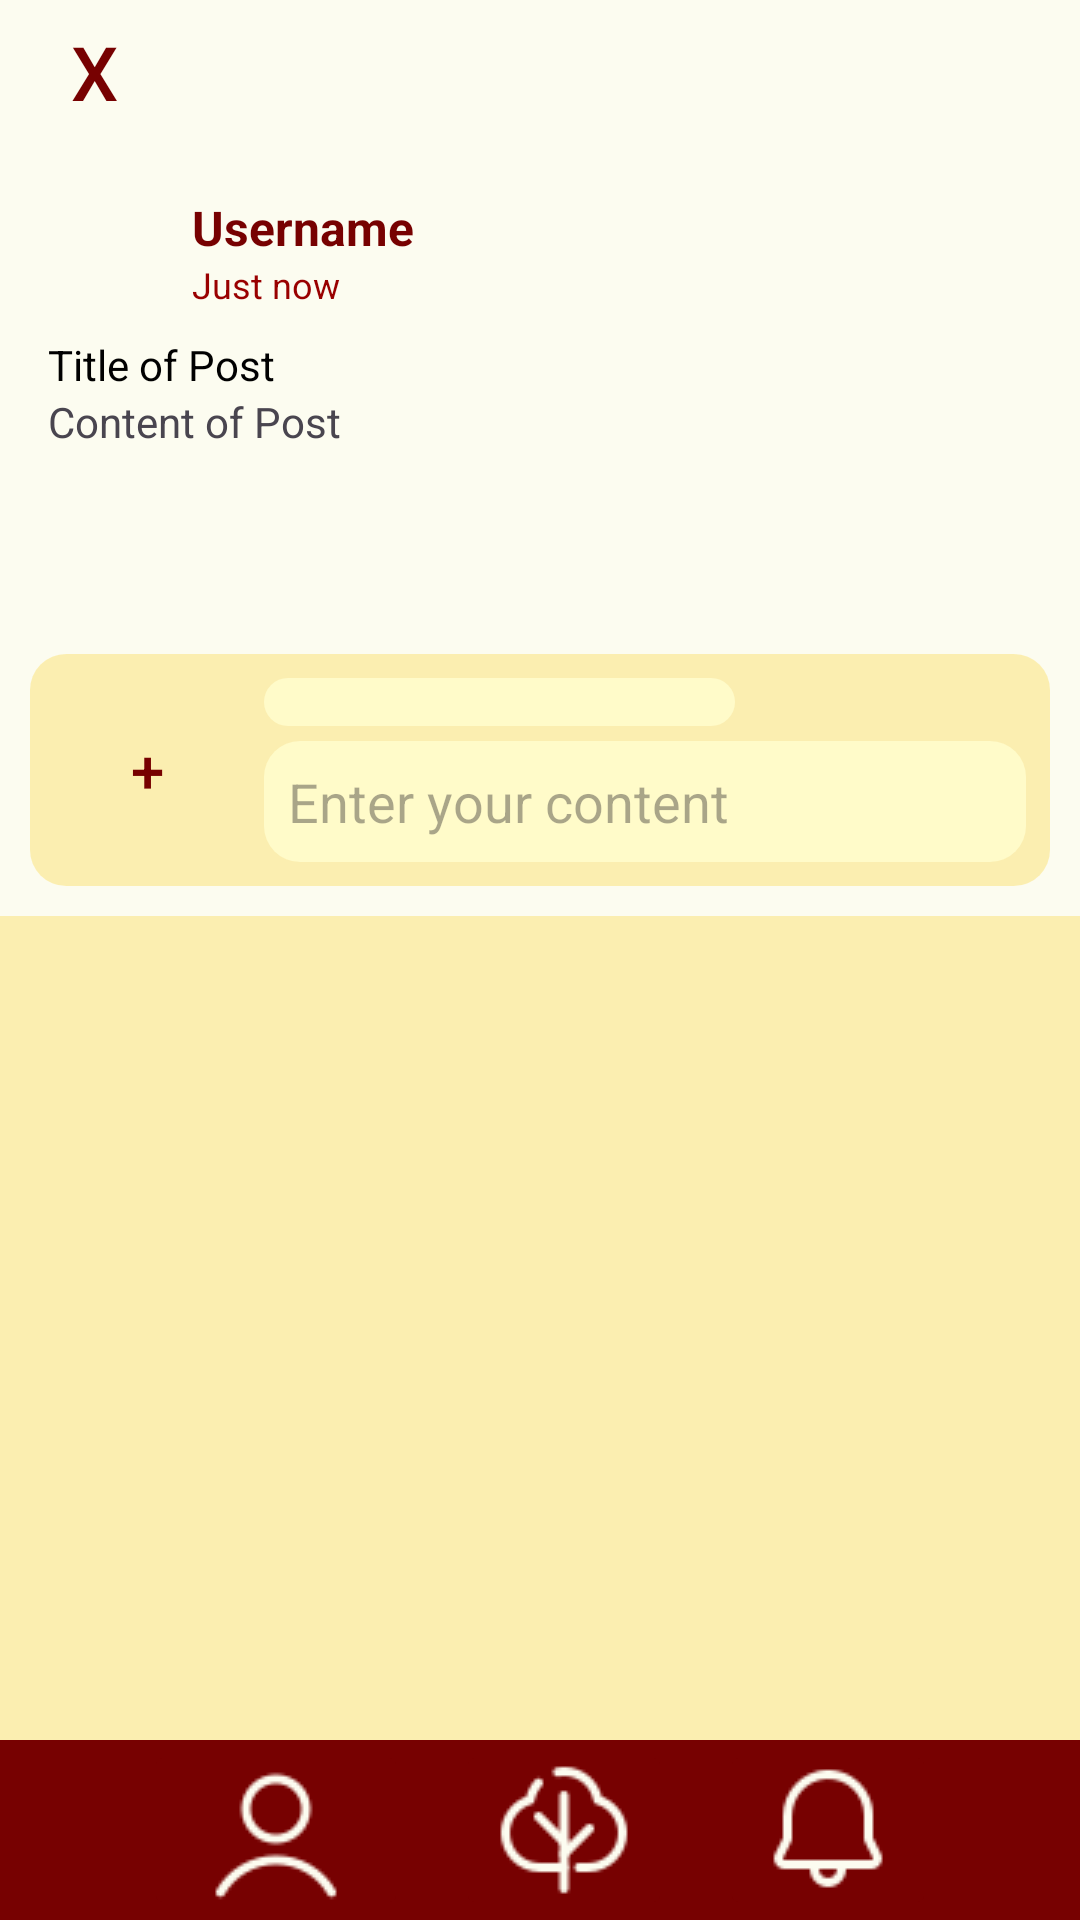

Named icons in this screenshot (1080 x 1920) and their bounding boxes, (x1, y1, x2, y2):
bell: (773, 1769, 883, 1888)
profile: (215, 1772, 337, 1899)
tree: (500, 1766, 628, 1894)
